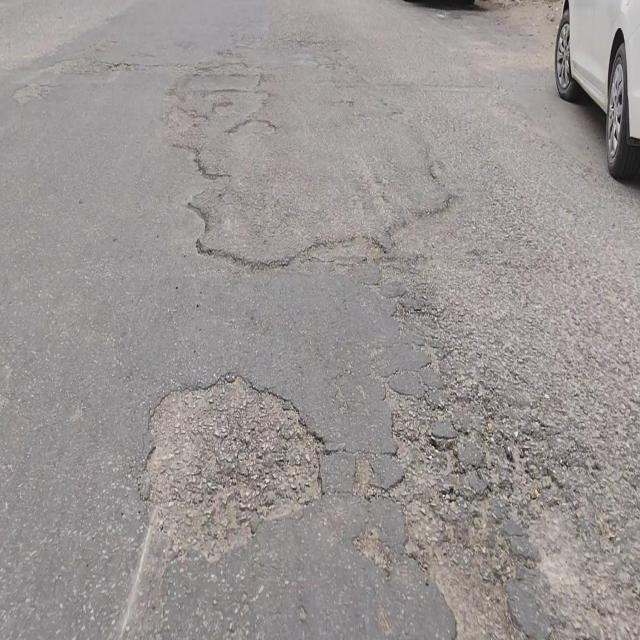Potholes: (141, 368, 326, 562), (387, 417, 538, 640)
